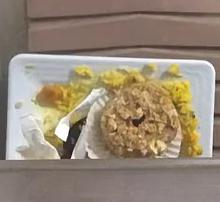donut: (101, 82, 182, 157)
rice: (35, 66, 144, 112), (159, 64, 203, 157)
